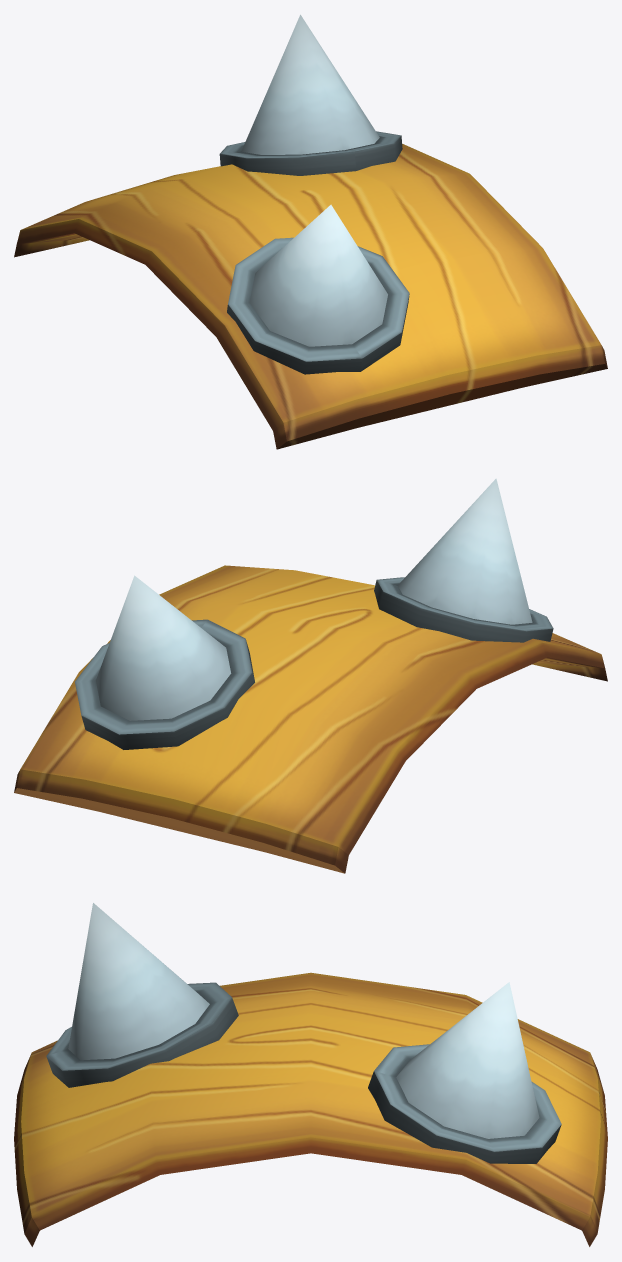
The model's file is Wooden_Robot_Part1.fbx.
3 views of the same model, one above another, from view 1: azimuth 30°, elevation 25°; view 2: azimuth 150°, elevation 25°; view 3: azimuth 270°, elevation 25° (orthographic). The views are drawn at different scales.
Parts seen in each view (by area): view 1: Wooden_Robot_Part1; view 2: Wooden_Robot_Part1; view 3: Wooden_Robot_Part1.
Part boxes in pixels (<box>): Wooden_Robot_Part1: <box>14,14,607,449</box>; Wooden_Robot_Part1: <box>14,478,607,873</box>; Wooden_Robot_Part1: <box>14,903,607,1246</box>.
Size of the model in its own units: 0.8303 by 2.01 by 1.37.
